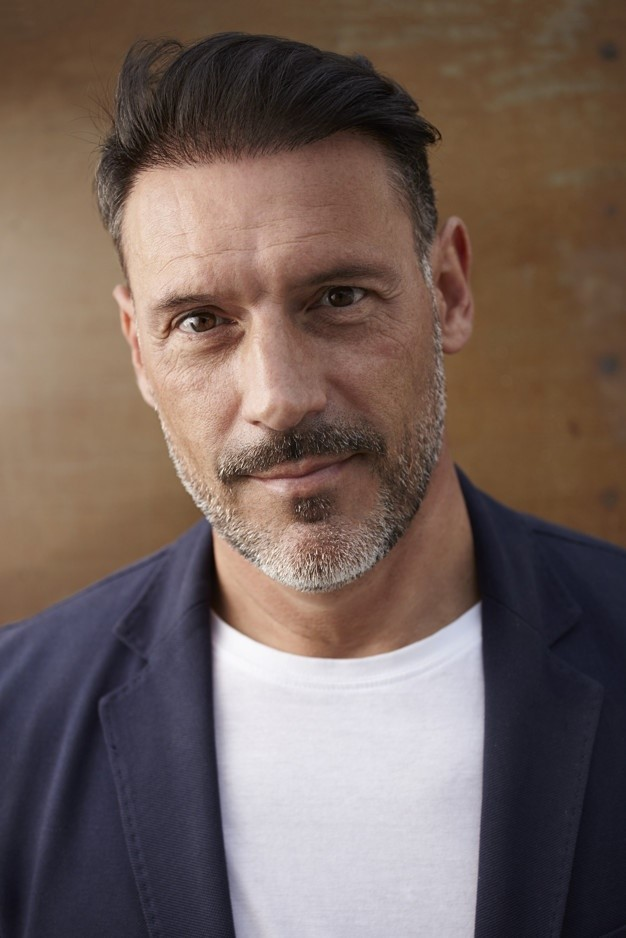face_no_mask: (106, 119, 483, 604)
